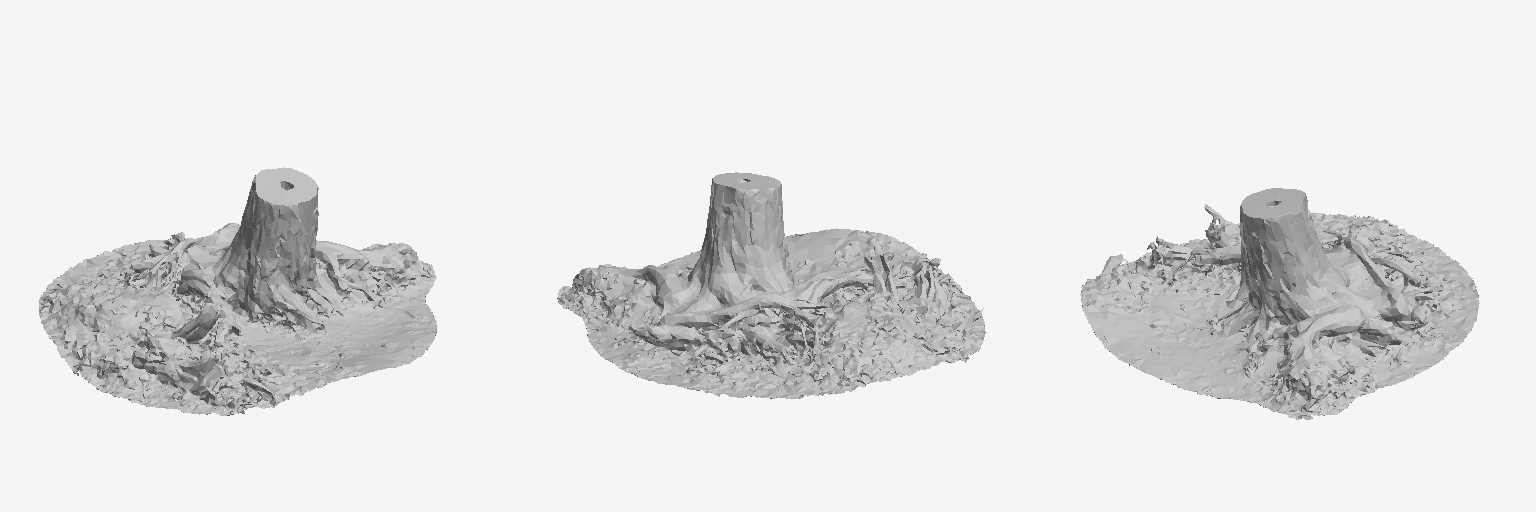
Rendered from stump.obj.
3 renders of one model, left to right at view 1: azimuth 30°, elevation 25°; view 2: azimuth 150°, elevation 25°; view 3: azimuth 270°, elevation 25°, orthographic.
Parts seen in each view (by area): view 1: Model_material0_0; view 2: Model_material0_0; view 3: Model_material0_0.
Boxes of the visible parts, <box> form: Model_material0_0: <box>39,167,437,415</box>; Model_material0_0: <box>557,172,986,398</box>; Model_material0_0: <box>1080,188,1479,419</box>.
Size of the model in its own units: 28.38 by 10.21 by 25.66.